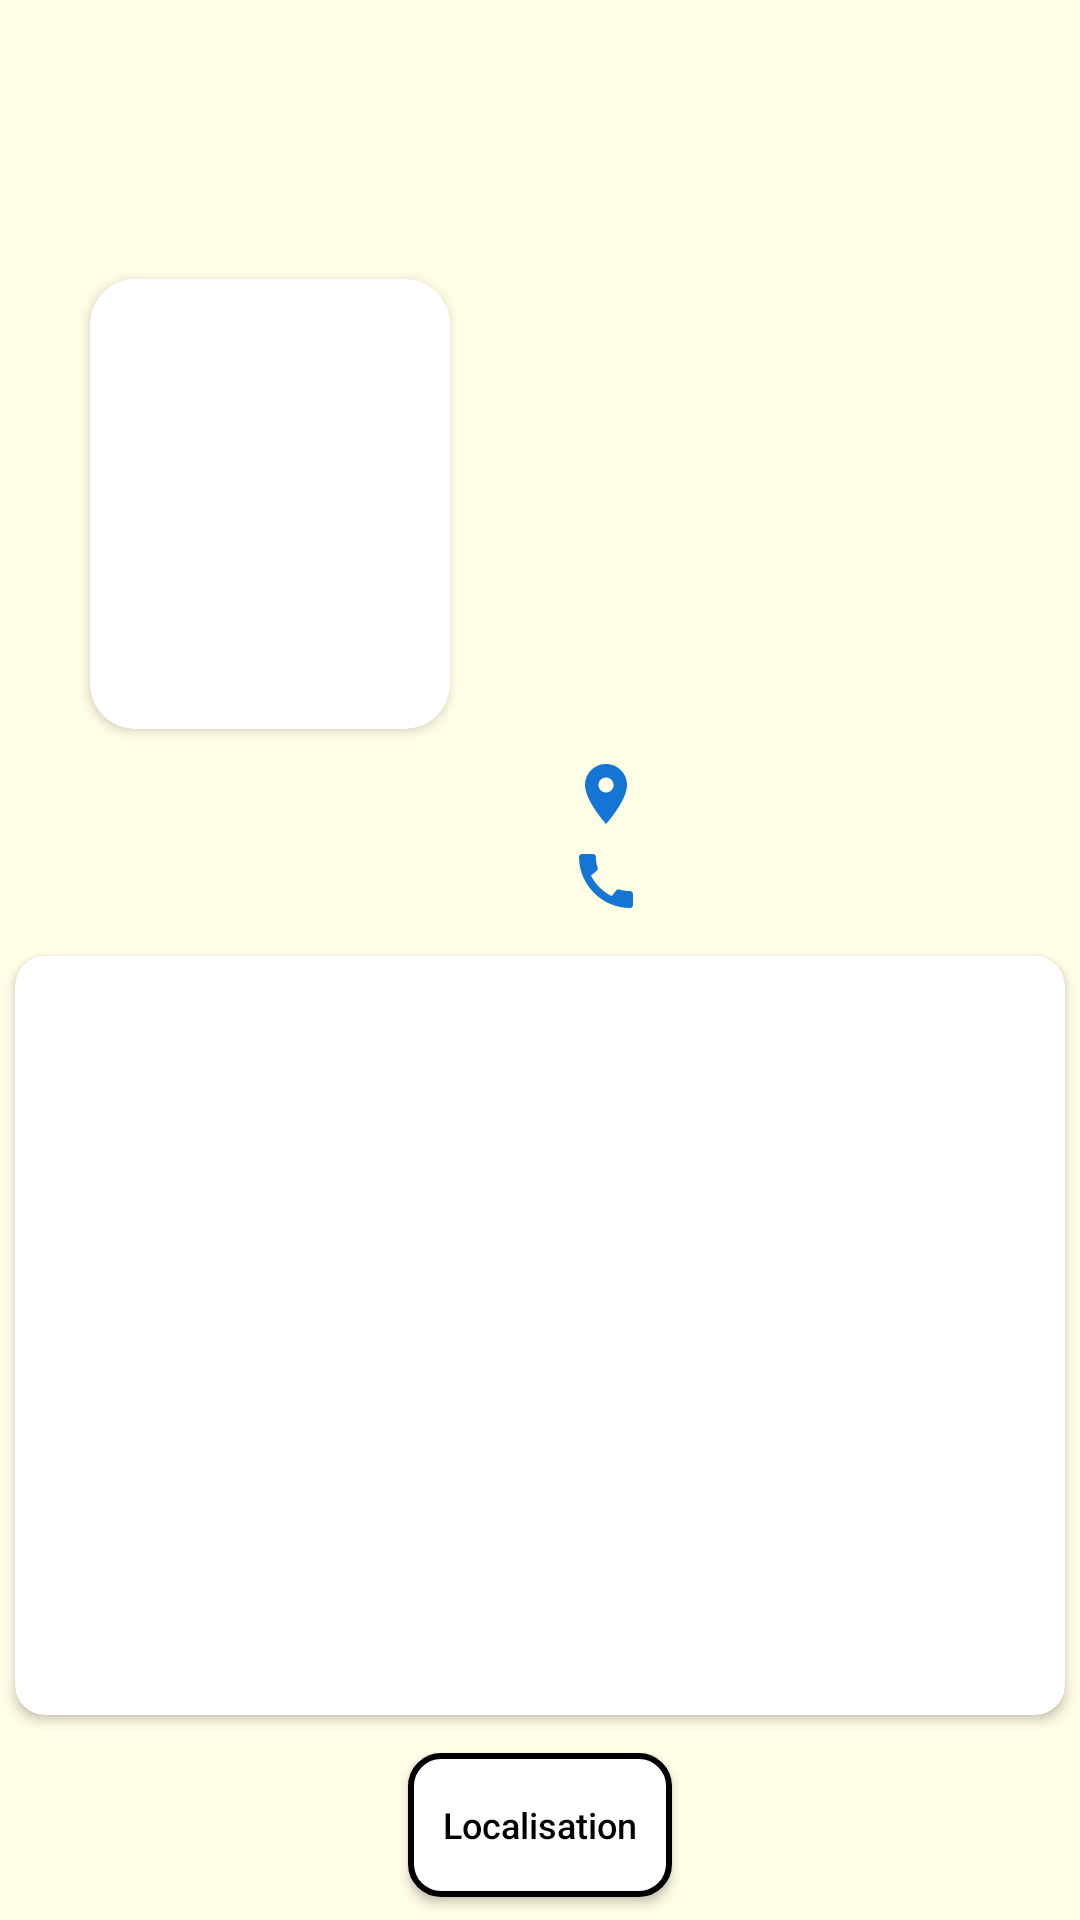

Screen size 1080w x 1920h. Icon name, then its center in pixels as point (x, y):
call: point (606, 881)
location on: point (606, 794)
